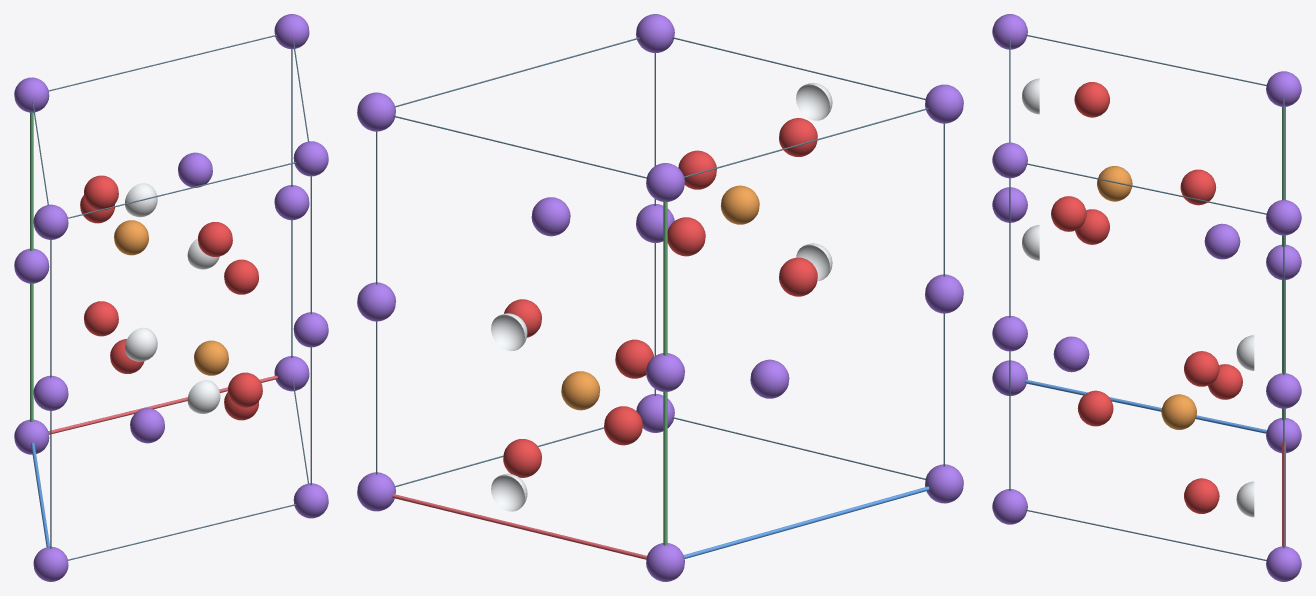
The model's file is chat-disodium-hydrogen-phosphate.glb.
3 renders of one model, left to right at view 1: azimuth 30°, elevation 25°; view 2: azimuth 150°, elevation 25°; view 3: azimuth 270°, elevation 25°, orthographic. The views are drawn at different scales.
Visible parts, largest first — view 1: Na1 · Na · 1 (×12), Ô mạng và các trục a, b, c, O3 · O · 1 (×4), H · H · 0.5 (×4), P · P · 1 (×2), Na2 · Na · 1 (×2), O1 · O · 1 (×2), O2 · O · 1 (×2); view 2: Na1 · Na · 1 (×12), Ô mạng và các trục a, b, c, O3 · O · 1 (×4), H · H · 0.5 (×4), Na2 · Na · 1 (×2), P · P · 1 (×2), O2 · O · 1 (×2), O1 · O · 1 (×2); view 3: Na1 · Na · 1 (×12), Ô mạng và các trục a, b, c, O3 · O · 1 (×4), H · H · 0.5 (×4), Na2 · Na · 1 (×2), O2 · O · 1 (×2), P · P · 1 (×2), O1 · O · 1 (×2).
Boxes of the visible parts, x1=… form: Na1 · Na · 1 (×12): x1=14, y1=14, x2=328, y2=581; Ô mạng và các trục a, b, c: x1=30, y1=34, x2=311, y2=560; O3 · O · 1 (×4): x1=84, y1=175, x2=258, y2=420; H · H · 0.5 (×4): x1=125, y1=183, x2=220, y2=413; P · P · 1 (×2): x1=114, y1=220, x2=228, y2=375; Na2 · Na · 1 (×2): x1=130, y1=152, x2=212, y2=443; O1 · O · 1 (×2): x1=110, y1=222, x2=232, y2=373; O2 · O · 1 (×2): x1=80, y1=195, x2=262, y2=407; Na1 · Na · 1 (×12): x1=357, y1=14, x2=963, y2=581; Ô mạng và các trục a, b, c: x1=376, y1=37, x2=944, y2=559; O3 · O · 1 (×4): x1=503, y1=118, x2=817, y2=477; H · H · 0.5 (×4): x1=491, y1=83, x2=832, y2=511; Na2 · Na · 1 (×2): x1=531, y1=197, x2=789, y2=398; P · P · 1 (×2): x1=561, y1=185, x2=759, y2=410; O2 · O · 1 (×2): x1=615, y1=217, x2=705, y2=378; O1 · O · 1 (×2): x1=604, y1=150, x2=716, y2=445; Na1 · Na · 1 (×12): x1=992, y1=14, x2=1301, y2=581; Ô mạng và các trục a, b, c: x1=1009, y1=34, x2=1285, y2=560; O3 · O · 1 (×4): x1=1074, y1=82, x2=1219, y2=513; H · H · 0.5 (×4): x1=1022, y1=78, x2=1254, y2=517; Na2 · Na · 1 (×2): x1=1053, y1=223, x2=1240, y2=372; O2 · O · 1 (×2): x1=1077, y1=169, x2=1216, y2=426; P · P · 1 (×2): x1=1097, y1=166, x2=1196, y2=429; O1 · O · 1 (×2): x1=1051, y1=196, x2=1242, y2=399.
Bounding box in the file's own units: 8.52 × 7.49 × 5.54.
